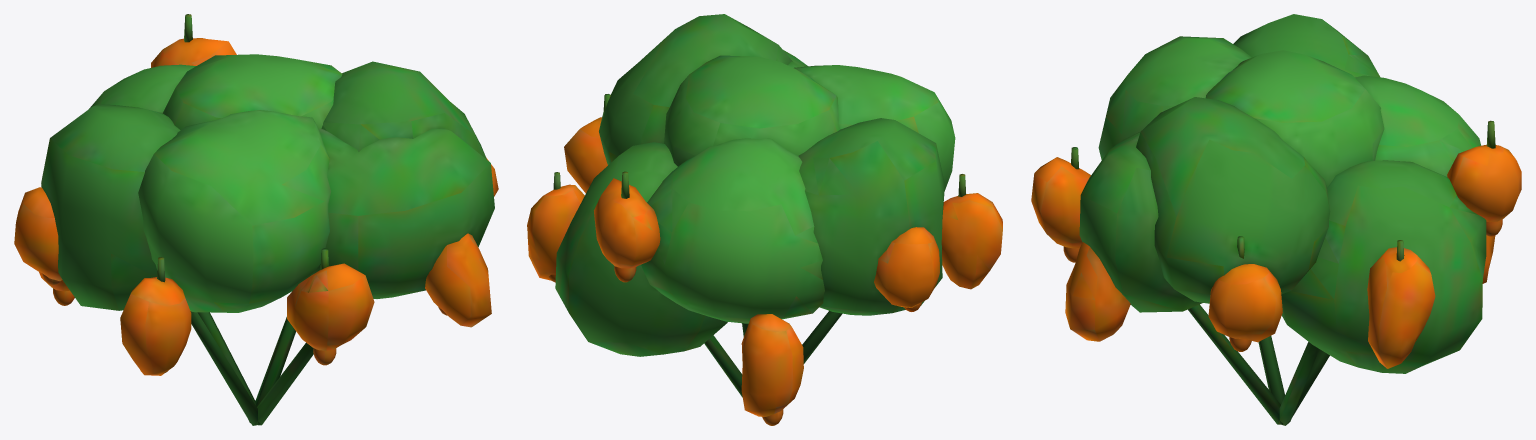
Rendered from crop_habanero.glb.
3 views of the same model, side by side, from view 1: azimuth 30°, elevation 25°; view 2: azimuth 150°, elevation 25°; view 3: azimuth 270°, elevation 25° (orthographic). The views are drawn at different scales.
Visible parts, largest first — view 1: crop_habanero, fruit; view 2: crop_habanero, fruit; view 3: crop_habanero, fruit.
Boxes of the visible parts, <box> form: crop_habanero: <box>41,14,494,425</box>; fruit: <box>14,38,498,375</box>; crop_habanero: <box>553,14,965,397</box>; fruit: <box>527,117,1002,425</box>; crop_habanero: <box>1071,14,1495,425</box>; fruit: <box>1031,145,1521,368</box>.
Bounding box in the file's own units: 0.2524 × 0.2061 × 0.2541.
Materials: 1 (1 with a texture image).
